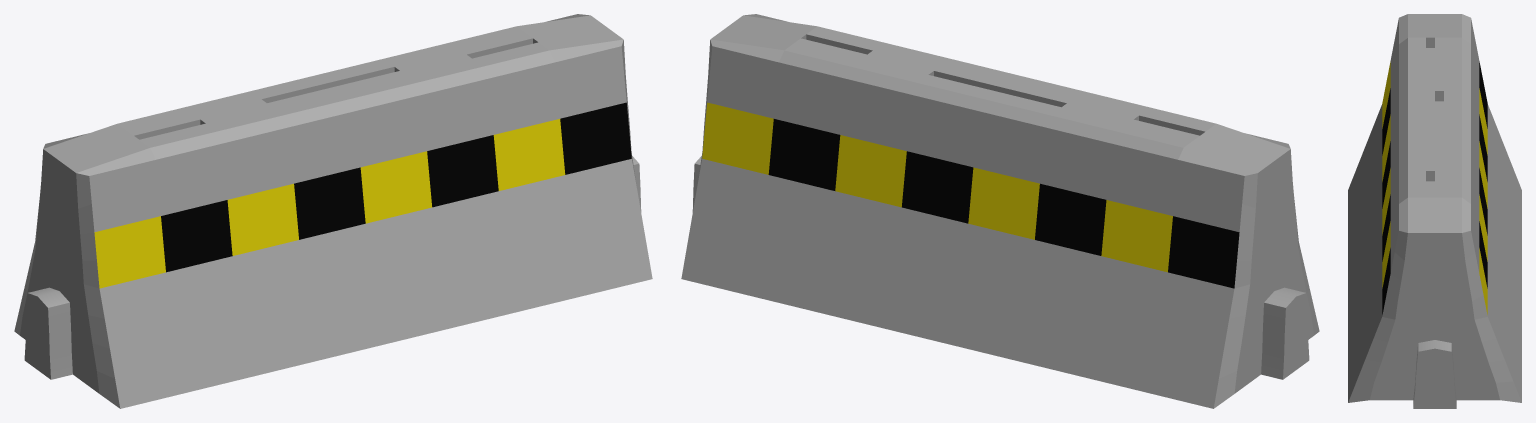
File: barracade.fbx
The picture shows the model from 3 angles, left to right: view 1: azimuth 30°, elevation 25°; view 2: azimuth 150°, elevation 25°; view 3: azimuth 270°, elevation 25°; orthographic projection. The views are drawn at different scales.
Parts seen in each view (by area): view 1: pCube1; view 2: pCube1; view 3: pCube1.
Boxes of the visible parts, box(x1,y1,x2,y2) form: pCube1: box(14, 14, 652, 408); pCube1: box(681, 14, 1319, 408); pCube1: box(1348, 14, 1521, 408).
Size of the model in its own units: 7.77 by 2.74 by 2.41.
